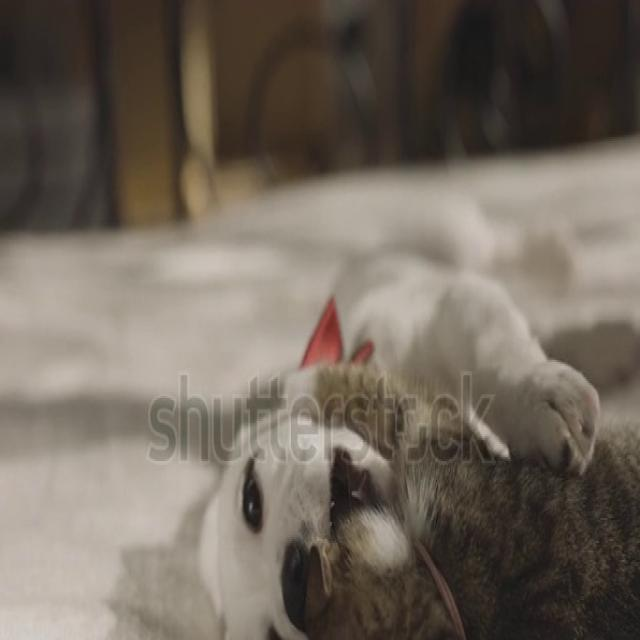normal_animals: (167, 367, 527, 640)
